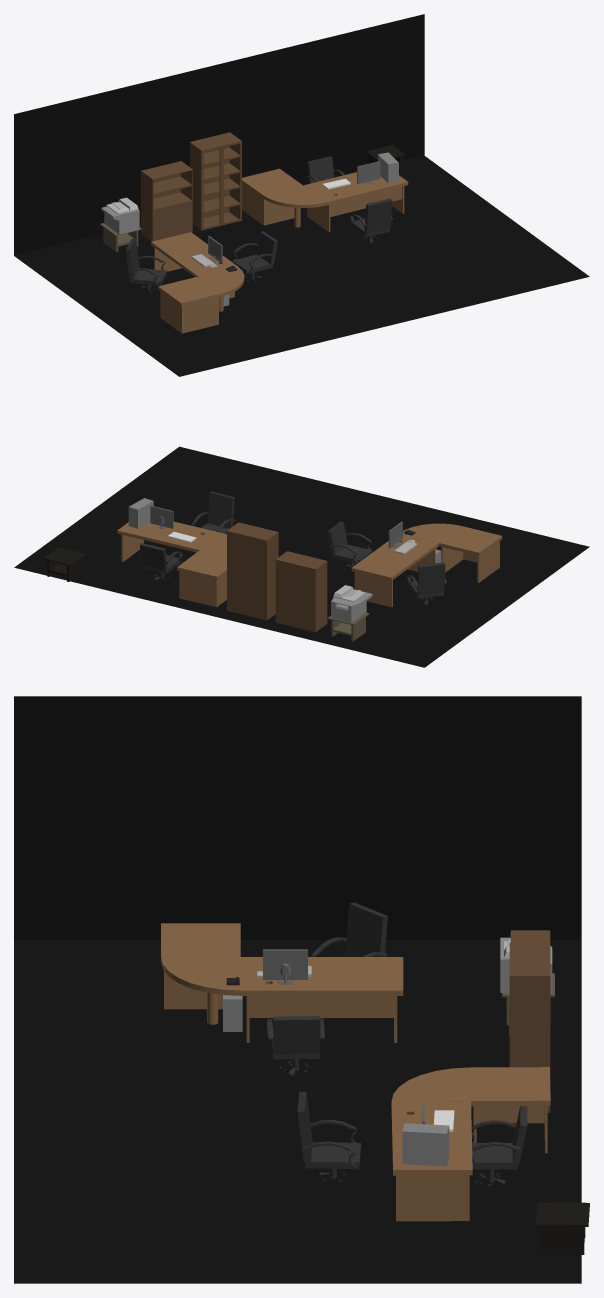
File: edificioInterior(2).glb
3 renders of one model, top to bottom at view 1: azimuth 30°, elevation 25°; view 2: azimuth 150°, elevation 25°; view 3: azimuth 270°, elevation 25°, orthographic. The views are drawn at different scales.
Parts seen in each view (by area): view 1: zemin, memur masası.001, memur masası, Cube.002, Cube, memur kultuğu.001, memur kultuğu.002, memur kultuğu, Cube.005, memur kultuğu.003, Cube.004, bilgisayar kasası.001; view 2: zemin, memur masası, memur masası.001, Cube.002, Cube, memur kultuğu, memur kultuğu.001, memur kultuğu.002, Cube.003, memur kultuğu.003, Cube.005, Cube.004 (+2 smaller); view 3: zemin, memur masası, memur masası.001, Cube.002, Cube.003, memur kultuğu.002, memur kultuğu.001, memur kultuğu.003, memur kultuğu, bilgisayar kasası.001, mönitör.
Part boxes in pixels (left/top/right/bottom): zemin: left=14, top=14, right=589, bottom=376; memur masası.001: left=242, top=168, right=408, bottom=231; memur masası: left=151, top=232, right=244, bottom=333; Cube.002: left=190, top=132, right=241, bottom=230; Cube: left=141, top=161, right=192, bottom=241; memur kultuğu.001: left=232, top=231, right=277, bottom=281; memur kultuğu.002: left=350, top=198, right=392, bottom=243; memur kultuğu: left=125, top=238, right=167, bottom=292; Cube.005: left=101, top=206, right=139, bottom=234; memur kultuğu.003: left=306, top=156, right=344, bottom=183; Cube.004: left=100, top=223, right=141, bottom=252; bilgisayar kasası.001: left=378, top=152, right=398, bottom=183; zemin: left=14, top=446, right=589, bottom=667; memur masası: left=351, top=523, right=502, bottom=607; memur masası.001: left=117, top=521, right=226, bottom=607; Cube.002: left=227, top=522, right=278, bottom=620; Cube: left=275, top=551, right=327, bottom=632; memur kultuğu: left=407, top=562, right=446, bottom=605; memur kultuğu.001: left=327, top=521, right=372, bottom=571; memur kultuğu.002: left=191, top=491, right=235, bottom=534; Cube.003: left=43, top=547, right=85, bottom=581; memur kultuğu.003: left=139, top=543, right=182, bottom=580; Cube.005: left=331, top=589, right=372, bottom=622; Cube.004: left=327, top=612, right=369, bottom=641; zemin: left=14, top=696, right=581, bottom=1283; memur masası: left=161, top=923, right=403, bottom=1042; memur masası.001: left=391, top=1067, right=550, bottom=1221; Cube.002: left=509, top=942, right=550, bottom=1112; Cube.003: left=536, top=1202, right=589, bottom=1254; memur kultuğu.002: left=297, top=1091, right=361, bottom=1182; memur kultuğu.001: left=267, top=1016, right=324, bottom=1075; memur kultuğu.003: left=471, top=1105, right=527, bottom=1186; memur kultuğu: left=311, top=902, right=387, bottom=956; bilgisayar kasası.001: left=402, top=1123, right=449, bottom=1166; mönitör: left=263, top=949, right=307, bottom=984.
Size of the model in its own units: 44.41 by 14.65 by 31.43.
